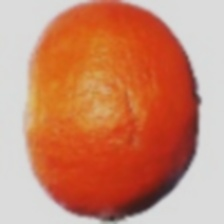tangerine: (39, 20, 219, 170)
